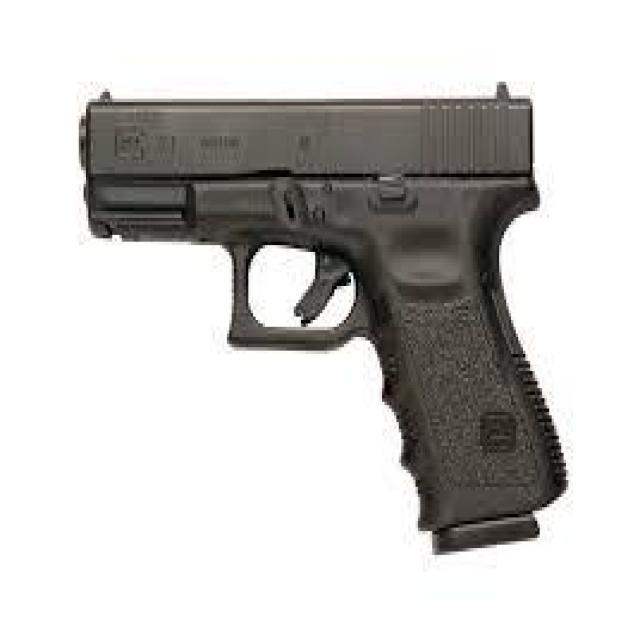gun: (76, 82, 568, 558)
